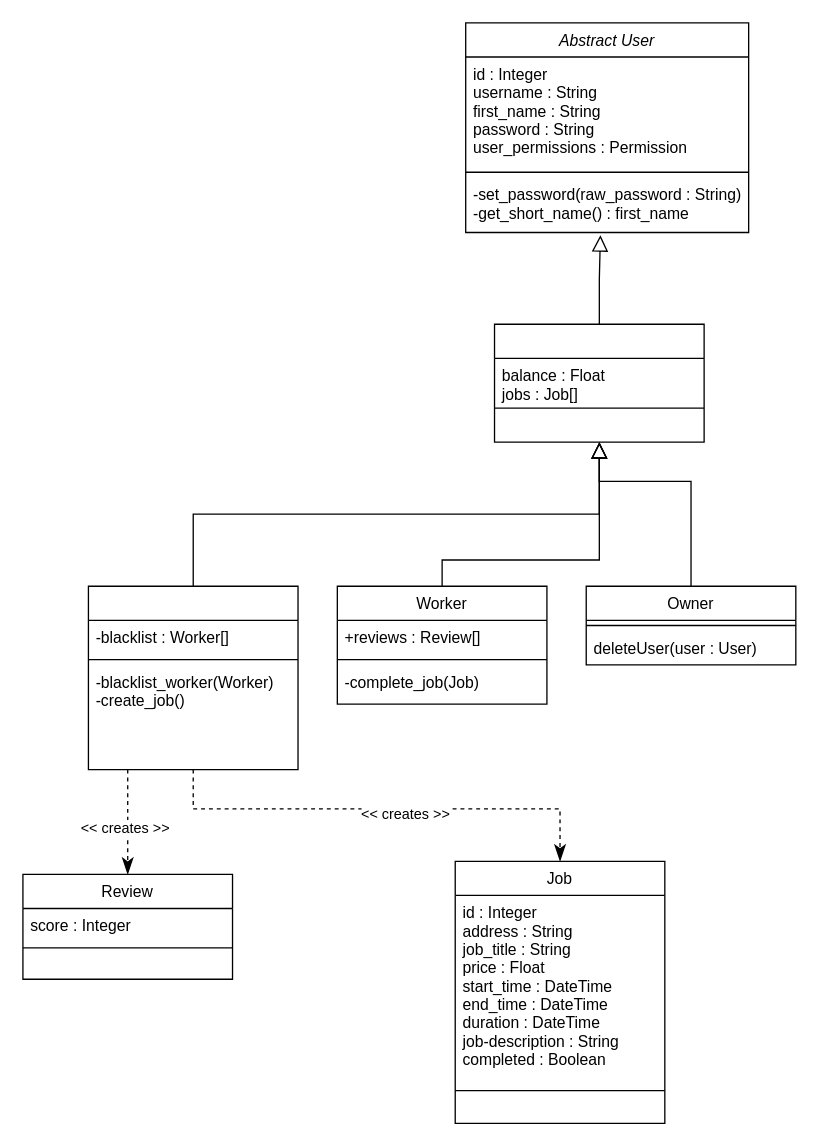
The diagram is 819 pixels wide and 1146 high, and some of its shapes have lost their labels. Each missing label, with the box of its shape:
Customer: (87, 585, 298, 770)
User: (493, 323, 704, 442)
